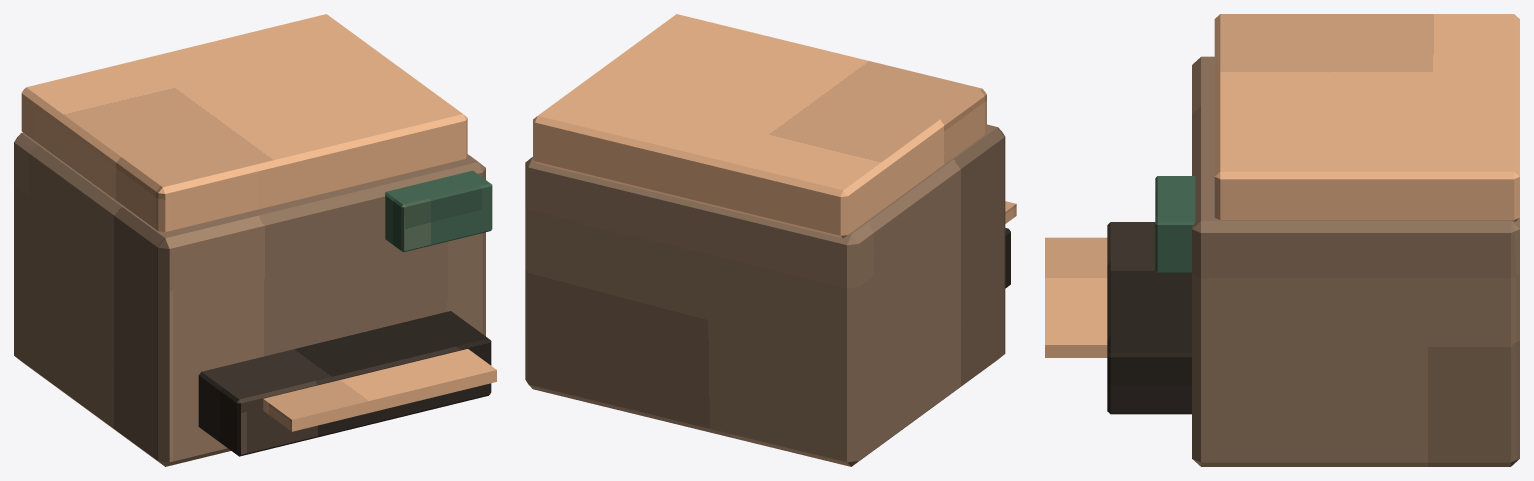
Rendered from office_printer_ember.glb.
The picture shows the model from 3 angles, left to right: view 1: azimuth 30°, elevation 25°; view 2: azimuth 150°, elevation 25°; view 3: azimuth 270°, elevation 25°; orthographic projection. The views are drawn at different scales.
Parts seen in each view (by area): view 1: PrinterBody, ScannerLid, PaperTray, Paper, ControlPanel; view 2: PrinterBody, ScannerLid; view 3: PrinterBody, ScannerLid, PaperTray, Paper, ControlPanel.
Boxes of the visible parts, bbox=[...] form: PrinterBody: bbox=[14, 132, 485, 466]; ScannerLid: bbox=[21, 14, 467, 231]; PaperTray: bbox=[198, 311, 491, 456]; Paper: bbox=[263, 349, 496, 431]; ControlPanel: bbox=[385, 170, 492, 252]; PrinterBody: bbox=[525, 124, 1005, 466]; ScannerLid: bbox=[533, 14, 986, 237]; PrinterBody: bbox=[1192, 56, 1519, 466]; ScannerLid: bbox=[1214, 14, 1519, 221]; PaperTray: bbox=[1107, 222, 1191, 414]; Paper: bbox=[1045, 237, 1107, 357]; ControlPanel: bbox=[1155, 176, 1195, 272].
Size of the model in its own units: 0.72 by 0.57 by 0.84.
1 material, 1 textured.
